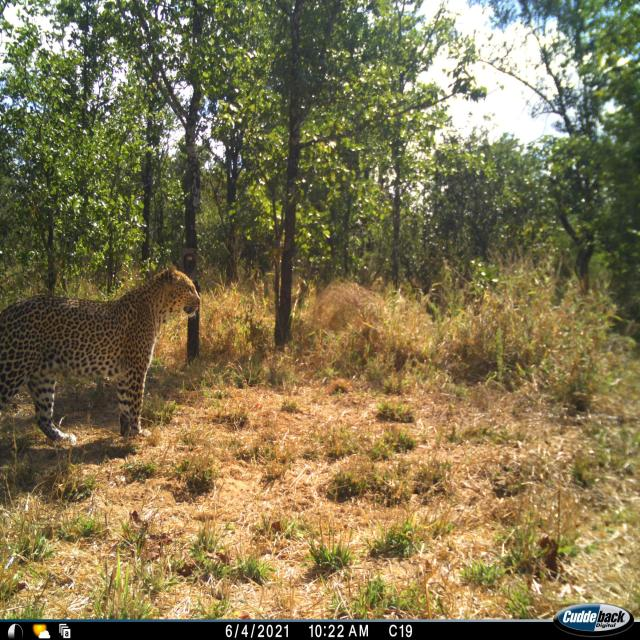Leopard: (0, 261, 190, 475)
